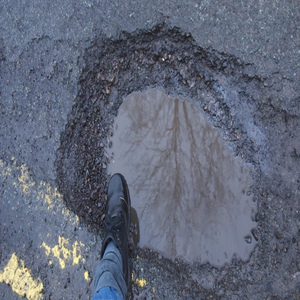pothole: (56, 26, 295, 294)
